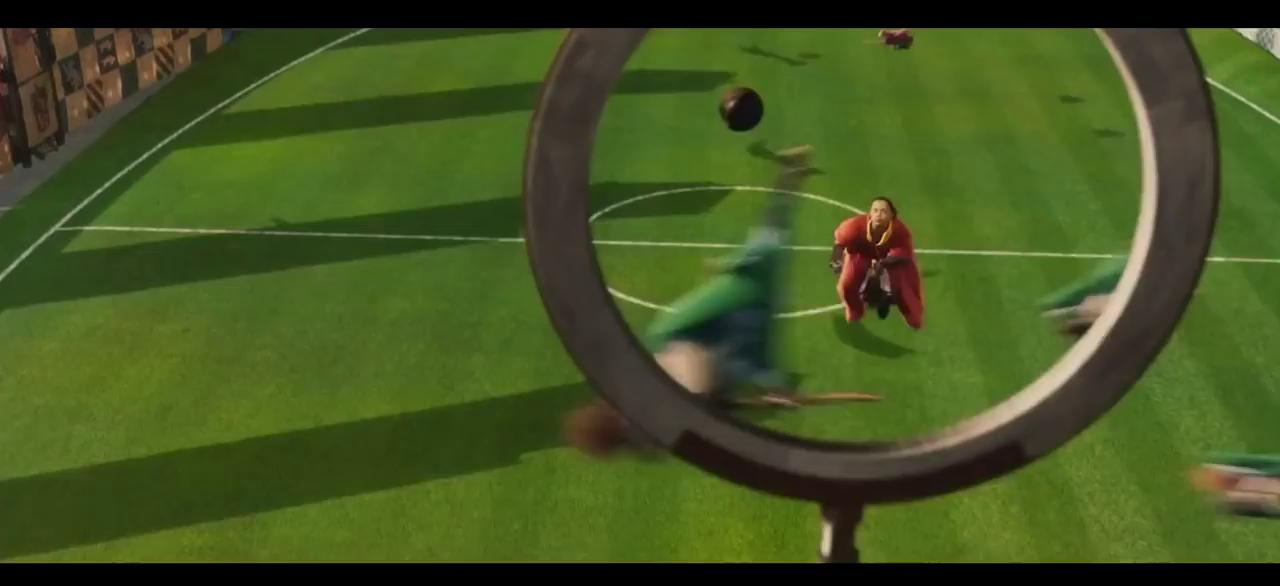quaffle: (715, 85, 765, 133)
